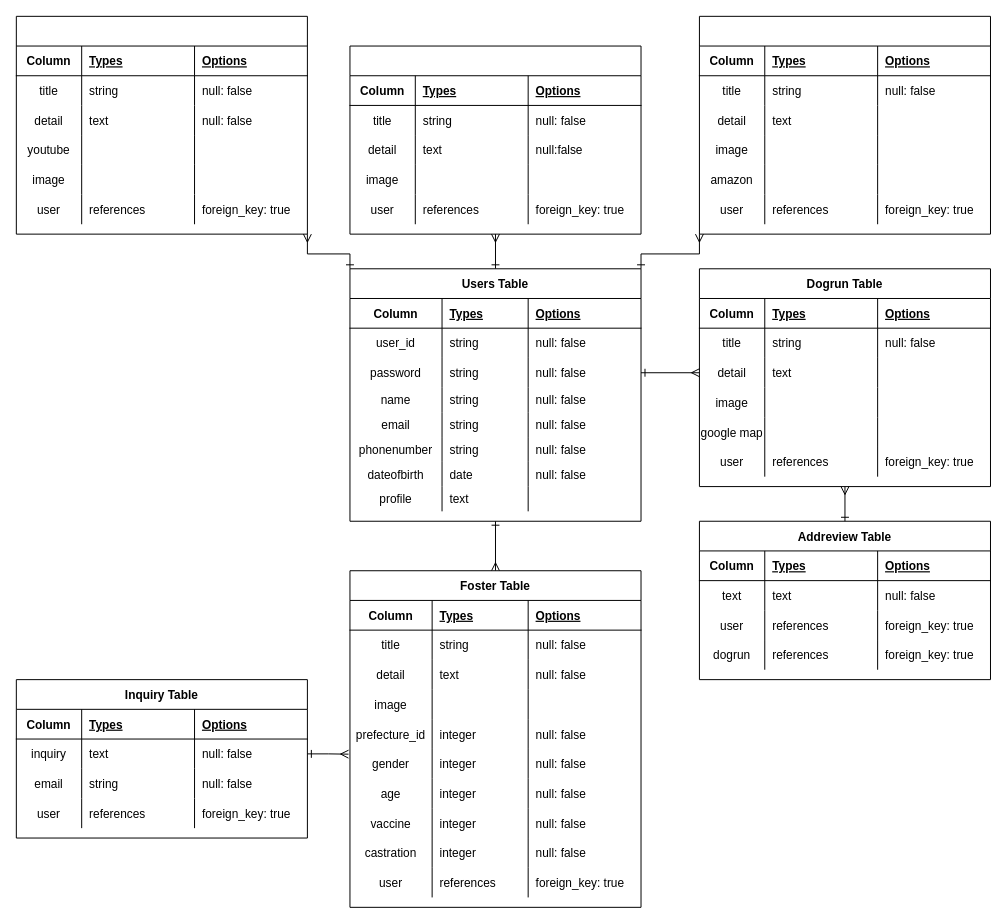
This 1007x924 diagram has some shape labels left out. Each missing label, with the box of its shape:
Post Table: (349, 45, 641, 234)
Recommend Table: (698, 15, 990, 234)
Training Table: (15, 15, 307, 234)
